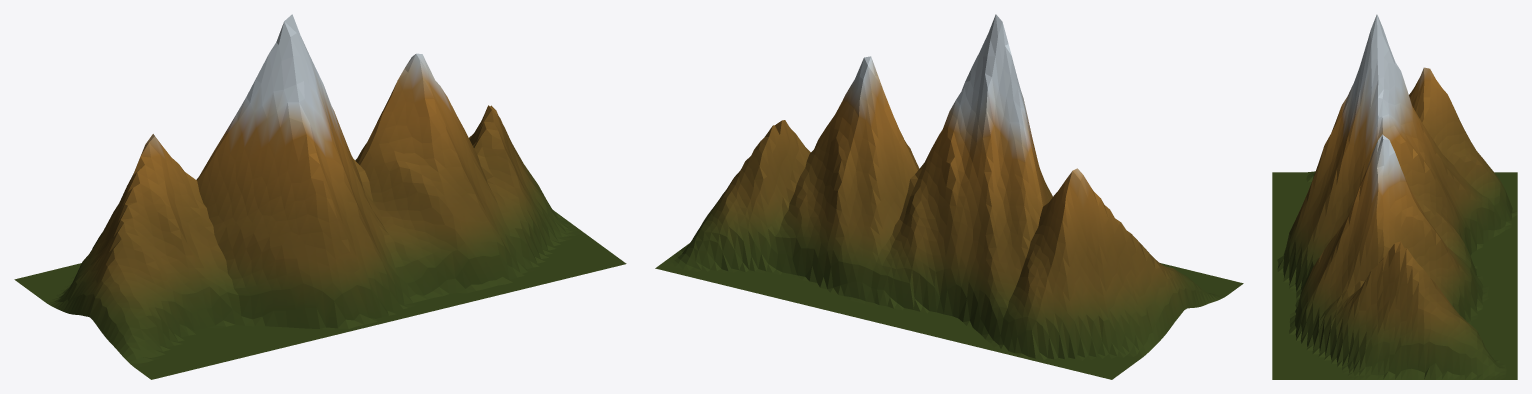
File: Snow_Large.fbx
3 renders of one model, left to right at view 1: azimuth 30°, elevation 25°; view 2: azimuth 150°, elevation 25°; view 3: azimuth 270°, elevation 25°, orthographic. The views are drawn at different scales.
Parts seen in each view (by area): view 1: Snow_Large; view 2: Snow_Large; view 3: Snow_Large.
Part boxes in pixels (<box>): Snow_Large: <box>14,14,626,379</box>; Snow_Large: <box>655,14,1243,379</box>; Snow_Large: <box>1272,14,1517,379</box>.
Bounding box in the file's own units: 3000 × 1655 × 1500.
